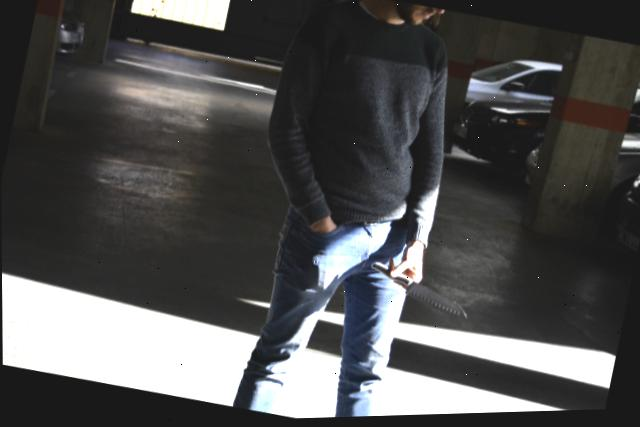pocket-knife: (363, 255, 483, 331)
